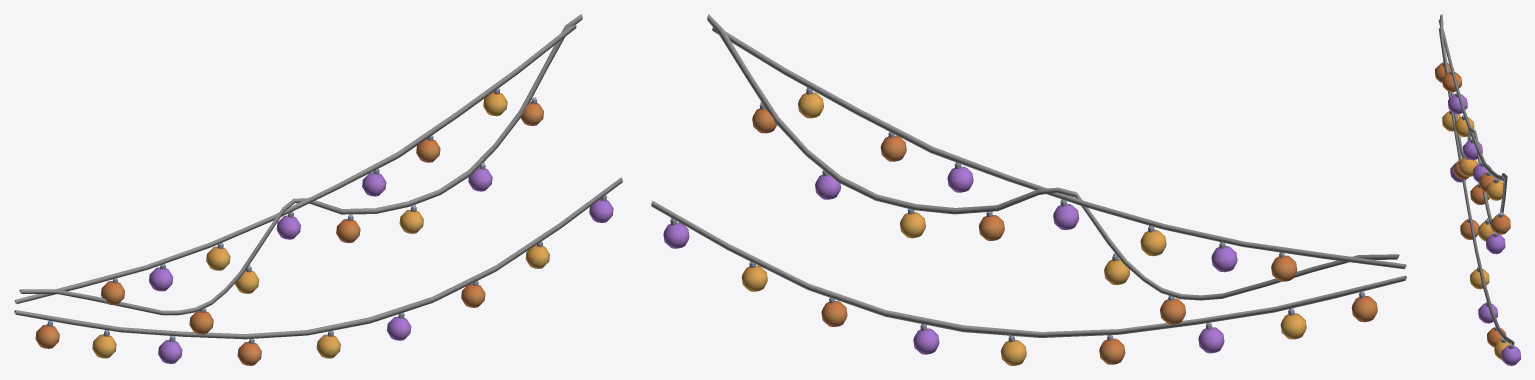
File: pref_sm_beach_WSJ_deng03_f_lv3.fbx
3 views of the same model, side by side, from view 1: azimuth 30°, elevation 25°; view 2: azimuth 150°, elevation 25°; view 3: azimuth 270°, elevation 25° (orthographic). The views are drawn at different scales.
Visible parts, largest first — view 1: pref_sm_beach_WSJ_deng03_f_lv3; view 2: pref_sm_beach_WSJ_deng03_f_lv3; view 3: pref_sm_beach_WSJ_deng03_f_lv3.
Part boxes in pixels (x1,y1,x2,y2): pref_sm_beach_WSJ_deng03_f_lv3: (14, 14, 622, 365); pref_sm_beach_WSJ_deng03_f_lv3: (651, 14, 1406, 365); pref_sm_beach_WSJ_deng03_f_lv3: (1435, 14, 1520, 365).
Size of the model in its own units: 7.04 by 2.82 by 0.9638.
